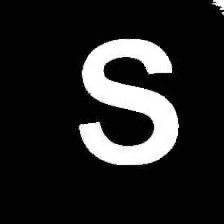LTR_S: (75, 30, 184, 172)
